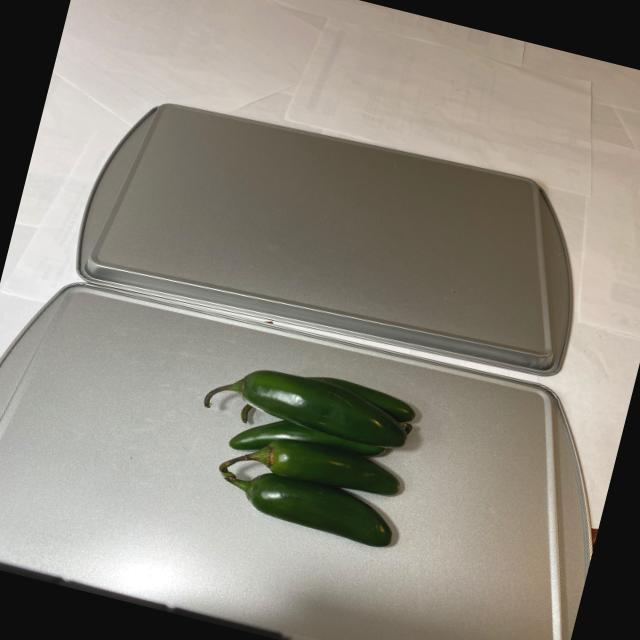chilli: (167, 338, 448, 572)
